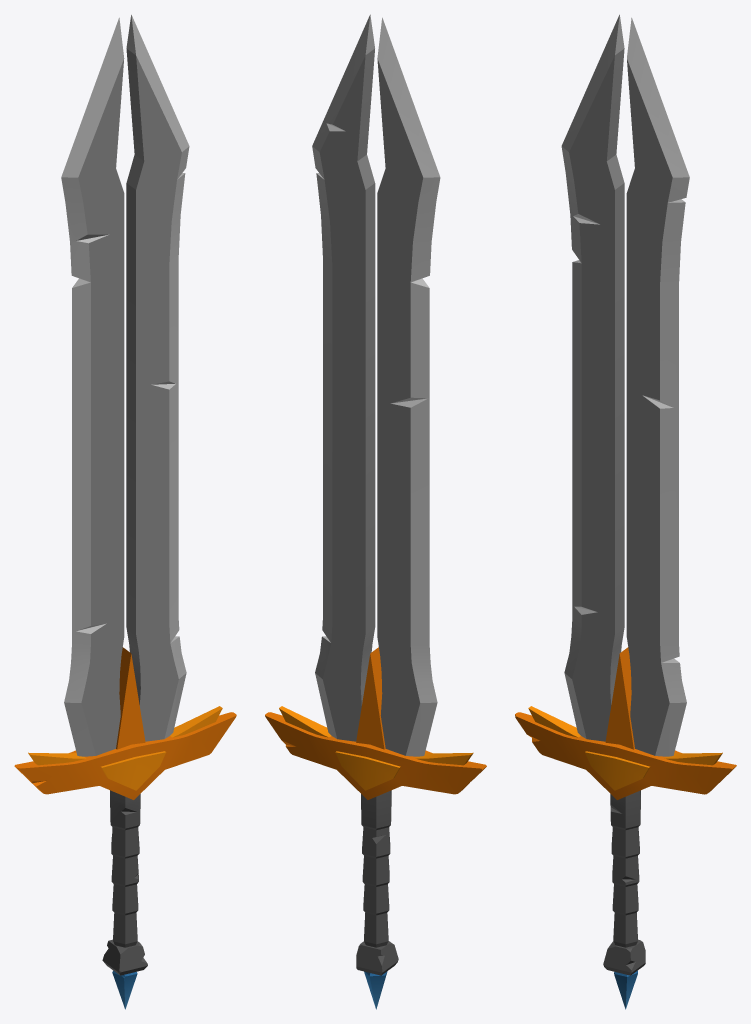
The model's file is Sword_01.fbx.
3 views of the same model, side by side, from view 1: azimuth 30°, elevation 25°; view 2: azimuth 150°, elevation 25°; view 3: azimuth 330°, elevation 25° (orthographic).
Visible parts, largest first — view 1: Sword_01; view 2: Sword_01; view 3: Sword_01.
Boxes of the visible parts, x1=… form: Sword_01: x1=14, y1=14, x2=236, y2=1009; Sword_01: x1=265, y1=14, x2=486, y2=1009; Sword_01: x1=515, y1=14, x2=736, y2=1009.
Bounding box in the file's own units: 26.06 × 113 × 4.72.
